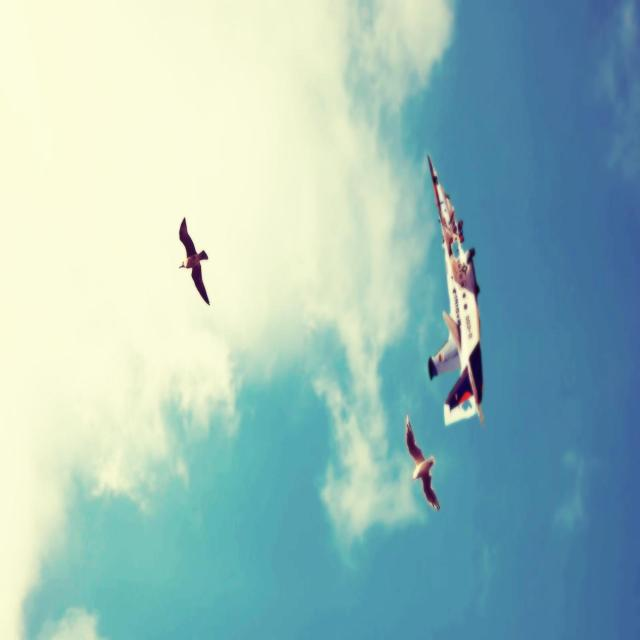airplane: (426, 152, 485, 428)
